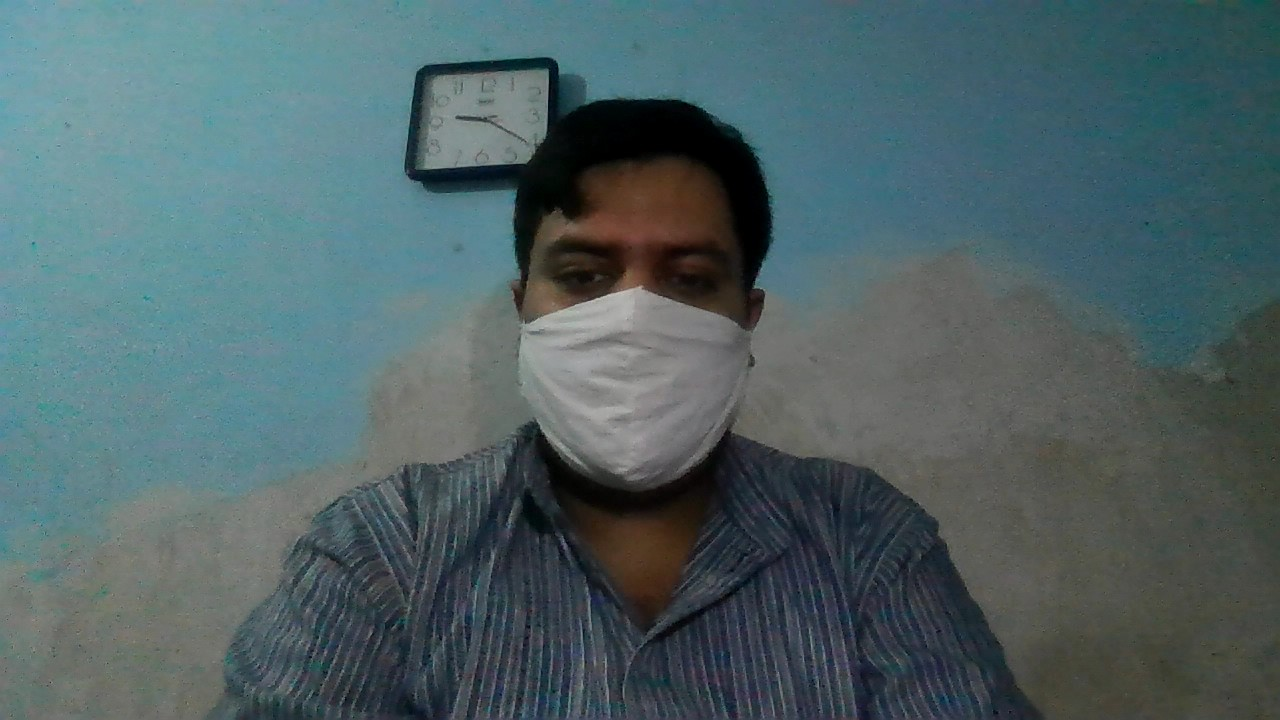Mask: (506, 284, 766, 500)
